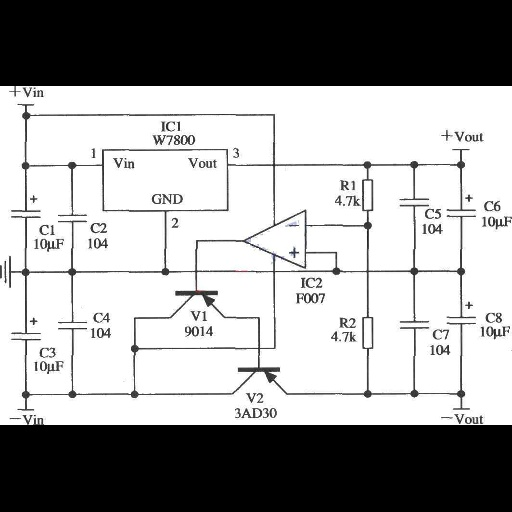amplifier: (241, 207, 312, 271)
capacitor: (55, 208, 89, 227), (397, 315, 430, 332), (57, 318, 88, 334), (397, 194, 430, 209)
firstpolarcapacitor: (8, 315, 45, 345), (7, 193, 43, 222), (446, 296, 478, 328), (447, 191, 478, 224)
firstresistance: (360, 311, 376, 353), (361, 176, 375, 216)
gnd: (1, 250, 12, 290)
pnp: (170, 282, 229, 322), (230, 364, 293, 399)
